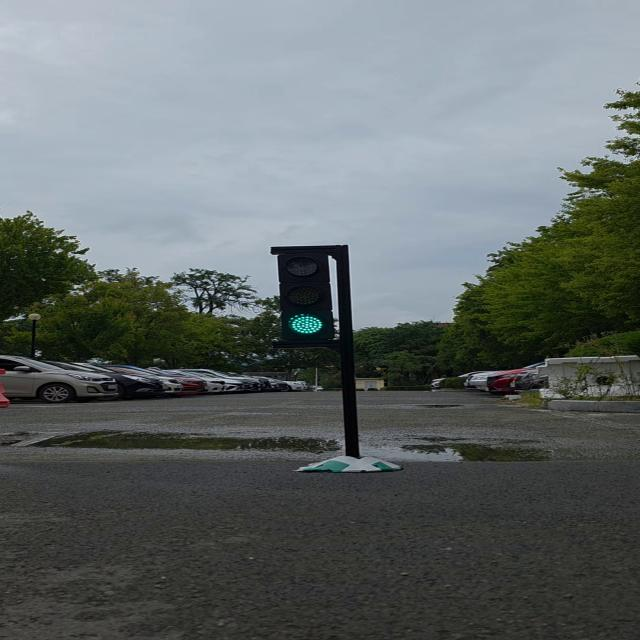green: (279, 246, 345, 346)
